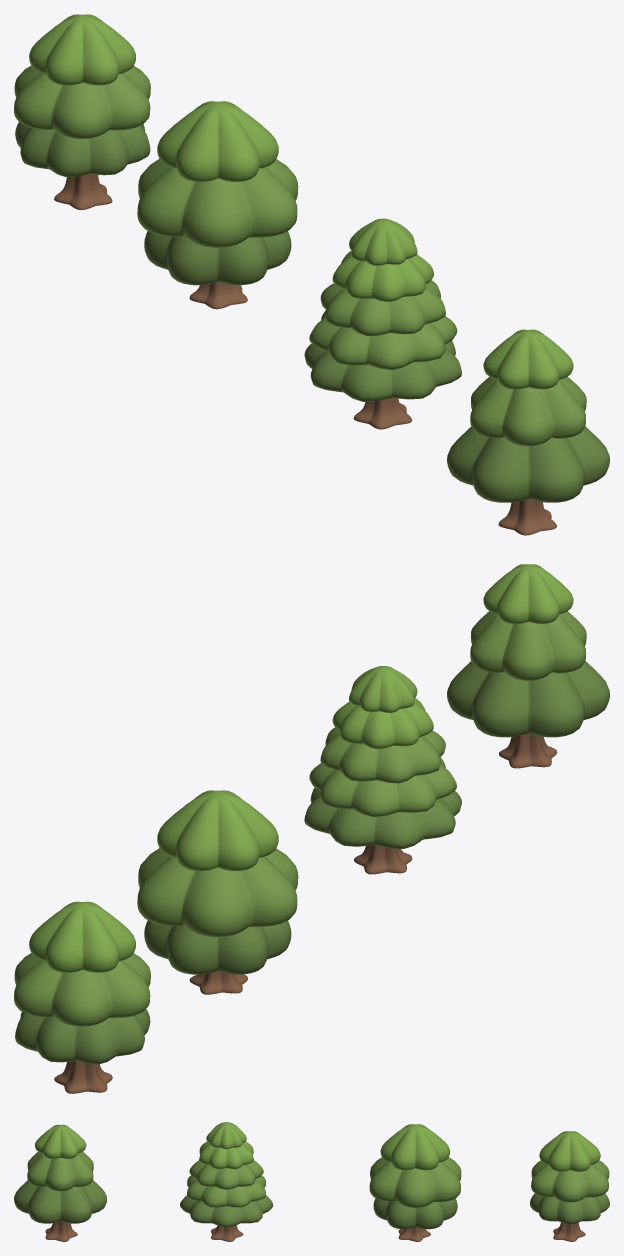
Rendered from trees(3).fbx.
The picture shows the model from 3 angles, top to bottom: view 1: azimuth 30°, elevation 25°; view 2: azimuth 150°, elevation 25°; view 3: azimuth 270°, elevation 25°; orthographic projection. The views are drawn at different scales.
Visible parts, largest first — view 1: pine leaves.004, pine leaves, pine leaves.007, pine leaves.005, pine leaves.001, pine leaves.008, pine leaves.003, Circle, Circle.001, Circle.003, Circle.004, pine leaves.002 (+6 smaller); view 2: pine leaves.004, pine leaves, pine leaves.007, pine leaves.005, pine leaves.001, pine leaves.008, pine leaves.003, Circle, Circle.001, Circle.003, Circle.004, pine leaves.002 (+6 smaller); view 3: pine leaves.004, pine leaves, pine leaves.007, pine leaves.005, pine leaves.001, pine leaves.003, pine leaves.008, Circle, Circle.001, Circle.003, Circle.004, pine leaves.002 (+6 smaller).
Boxes of the visible parts, x1,y1,x2,y2 form: pine leaves.004: [137, 159, 298, 247]; pine leaves: [447, 426, 609, 502]; pine leaves.007: [14, 65, 150, 139]; pine leaves.005: [157, 101, 278, 181]; pine leaves.001: [470, 376, 586, 446]; pine leaves.008: [29, 14, 135, 85]; pine leaves.003: [144, 231, 291, 285]; Circle: [304, 341, 461, 401]; Circle.001: [15, 122, 150, 177]; Circle.003: [309, 310, 457, 369]; Circle.004: [320, 280, 445, 336]; pine leaves.002: [483, 329, 573, 389]; pine leaves.004: [137, 848, 298, 937]; pine leaves: [447, 661, 609, 737]; pine leaves.007: [14, 953, 150, 1026]; pine leaves.005: [157, 790, 278, 870]; pine leaves.001: [470, 611, 586, 680]; pine leaves.008: [29, 901, 135, 972]; pine leaves.003: [144, 920, 291, 974]; Circle: [304, 787, 461, 848]; Circle.001: [15, 1009, 150, 1064]; Circle.003: [309, 757, 456, 817]; Circle.004: [320, 727, 445, 783]; pine leaves.002: [483, 564, 573, 623]; pine leaves.004: [369, 1157, 461, 1207]; pine leaves: [14, 1180, 106, 1223]; pine leaves.007: [531, 1160, 609, 1202]; pine leaves.005: [380, 1124, 449, 1170]; pine leaves.001: [27, 1151, 93, 1191]; pine leaves.003: [373, 1198, 457, 1229]; pine leaves.008: [539, 1131, 600, 1171]; Circle: [180, 1195, 273, 1227]; Circle.001: [530, 1193, 609, 1224]; Circle.003: [187, 1175, 265, 1207]; Circle.004: [189, 1159, 263, 1189]; pine leaves.002: [35, 1124, 86, 1158].
Bounding box in the file's own units: 2552 × 3143 × 15123.
